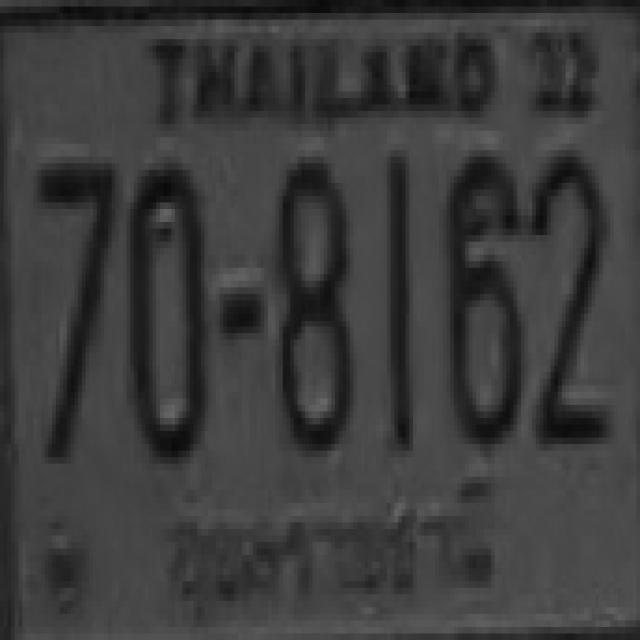0: (126, 160, 204, 454)
1: (384, 150, 409, 444)
2: (532, 144, 603, 438)
6: (443, 144, 521, 438)
7: (36, 153, 114, 454)
8: (275, 150, 350, 444)
UbonRatchathani: (162, 496, 503, 626)
